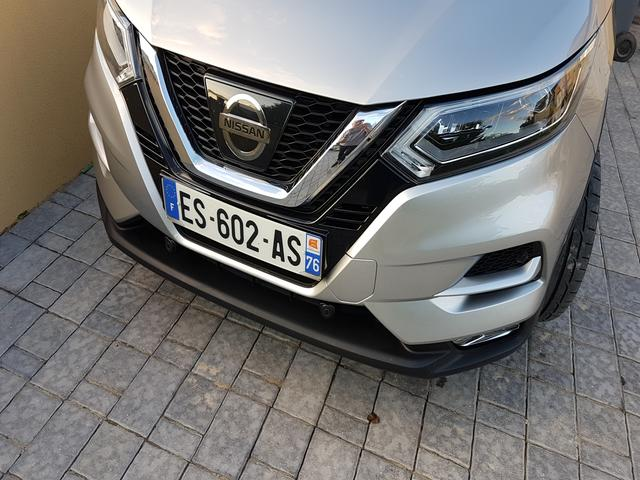Quashquai: (148, 160, 339, 308)
